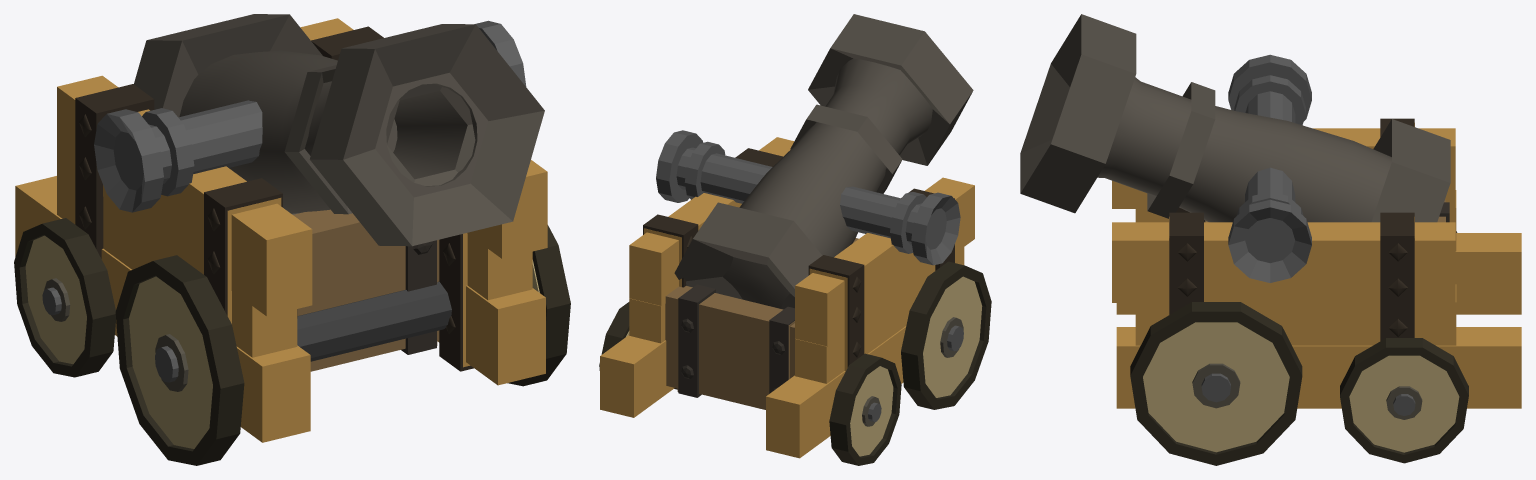
Rendered from Cannon.fbx.
3 renders of one model, left to right at view 1: azimuth 30°, elevation 25°; view 2: azimuth 150°, elevation 25°; view 3: azimuth 270°, elevation 25°, orthographic. The views are drawn at different scales.
Visible parts, largest first — view 1: cannon, pCube17, pCylinder10, pCube16, holder, pCylinder11, pCube19, pCylinder12, pCylinder7; view 2: cannon, pCube17, pCube20, pCube16, holder, pCylinder10, pCylinder11, pCylinder8; view 3: cannon, pCube16, pCylinder7, pCylinder8, holder, pCube17.
Boxes of the visible parts, box(x1,y1,x2,y2) form: cannon: box(134, 14, 544, 246); pCube17: box(15, 75, 312, 442); pCylinder10: box(115, 255, 244, 465); pCube16: box(300, 18, 547, 385); holder: box(94, 20, 526, 212); pCylinder11: box(14, 218, 115, 377); pCube19: box(293, 209, 439, 371); pCylinder12: box(297, 281, 451, 361); pCylinder7: box(507, 225, 570, 386); cannon: box(674, 14, 973, 309); pCube17: box(766, 177, 974, 458); pCube20: box(665, 284, 794, 409); pCube16: box(600, 137, 794, 417); holder: box(656, 130, 960, 265); pCylinder10: box(901, 261, 991, 409); pCylinder11: box(829, 353, 901, 465); pCylinder8: box(599, 302, 629, 370); cannon: box(1020, 14, 1450, 222); pCube16: box(1112, 212, 1521, 408); pCylinder7: box(1130, 302, 1302, 465); pCylinder8: box(1340, 338, 1468, 463); holder: box(1228, 54, 1311, 282); pCube17: box(1112, 118, 1521, 314).
Bounding box in the file's own units: 6.78 × 7.49 × 9.41.
